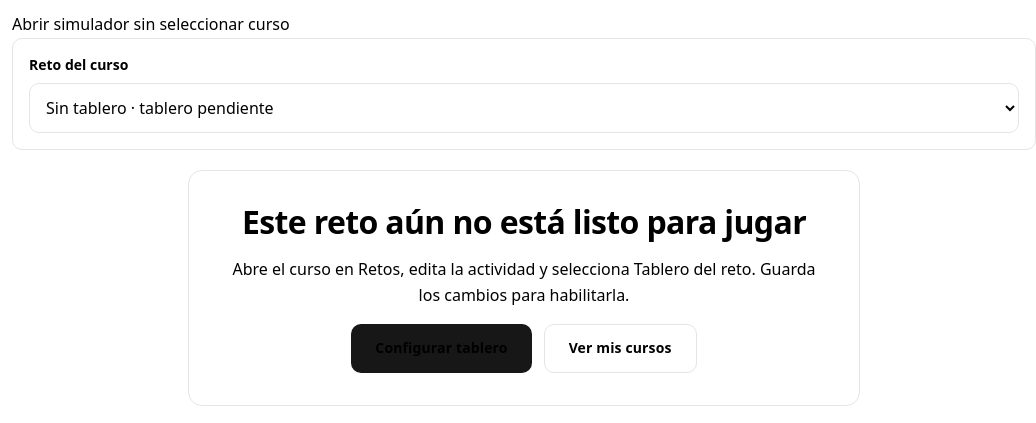
Scenario: Backend activity selection › directs docente to configuration with the right course selected
Click the link "Configurar tablero".
click(442, 348)  # box [351, 324, 532, 373]
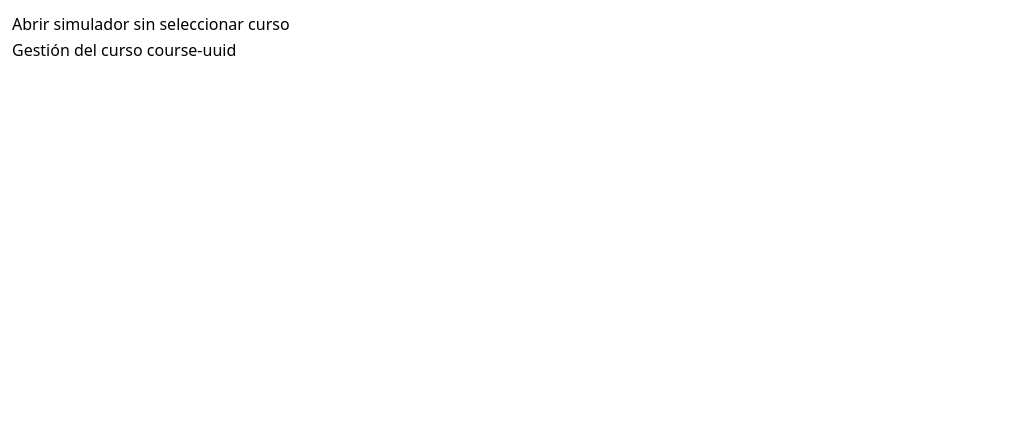
Check: the text "Gestión del curso course-uuid" is shown, box [12, 39, 236, 61]
